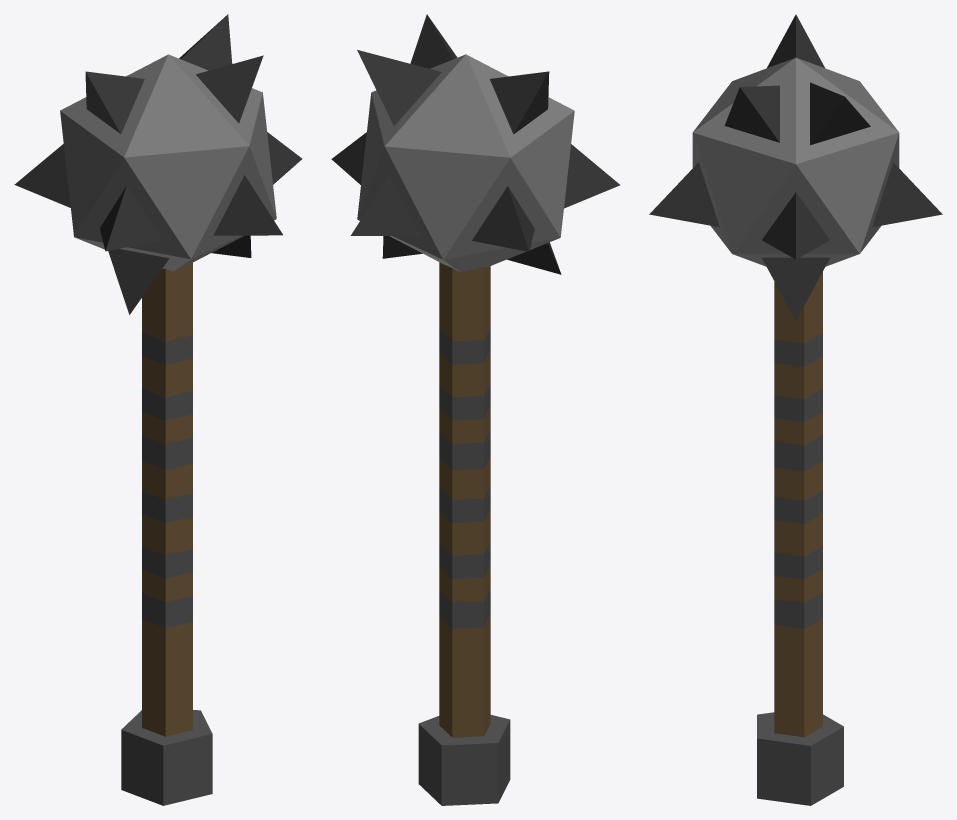
The model's file is Mace.fbx.
3 renders of one model, left to right at view 1: azimuth 30°, elevation 25°; view 2: azimuth 150°, elevation 25°; view 3: azimuth 270°, elevation 25°, orthographic.
Visible parts, largest first — view 1: Mace; view 2: Mace; view 3: Mace.
Part boxes in pixels (x1,y1,x2,y2): Mace: (14, 14, 302, 805); Mace: (331, 14, 620, 805); Mace: (649, 14, 942, 805).
Size of the model in its own units: 50.08 by 145 by 52.66.
